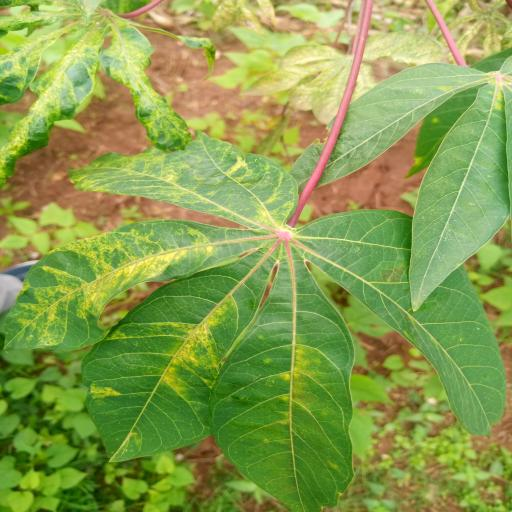Cassava_Mosaic: (17, 130, 512, 512)
